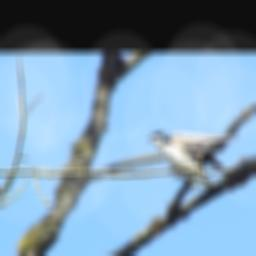Swallow: (146, 130, 238, 192)
